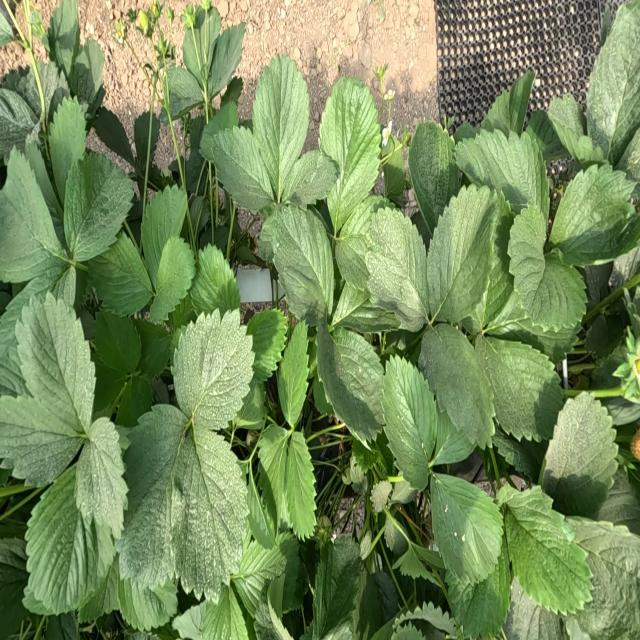Flowers: (381, 127, 390, 147), (383, 90, 394, 100)
Leaves: (173, 428, 249, 598), (25, 471, 114, 615), (117, 407, 186, 588), (503, 486, 591, 613), (17, 293, 95, 436), (428, 185, 504, 324), (509, 206, 587, 332), (0, 267, 76, 395), (173, 310, 254, 429), (419, 324, 494, 447), (259, 204, 334, 326), (544, 393, 618, 516), (321, 78, 380, 231), (430, 474, 502, 595), (552, 164, 638, 265), (477, 339, 562, 441), (568, 517, 639, 639), (1, 147, 64, 282), (586, 4, 639, 161), (456, 127, 549, 215), (253, 55, 309, 199), (316, 323, 383, 440), (64, 152, 134, 261), (366, 209, 429, 330), (0, 394, 82, 486), (383, 358, 437, 489), (258, 427, 315, 538), (76, 419, 127, 540), (201, 126, 272, 210), (451, 541, 511, 638), (230, 534, 298, 618), (409, 121, 459, 231), (88, 233, 151, 316), (313, 536, 365, 636), (91, 311, 139, 418), (141, 185, 186, 284), (150, 236, 195, 324), (49, 96, 86, 199), (548, 94, 602, 163), (503, 580, 566, 639), (336, 197, 375, 292), (190, 245, 239, 315), (481, 72, 534, 136), (117, 575, 175, 631), (182, 9, 221, 90), (278, 321, 307, 426), (281, 151, 337, 205), (430, 400, 475, 465), (246, 309, 286, 382), (207, 24, 244, 98), (596, 472, 639, 535), (1, 538, 27, 638), (200, 584, 247, 639), (1, 89, 36, 162), (69, 38, 103, 113), (390, 602, 456, 639), (93, 108, 134, 164), (134, 318, 172, 377), (247, 467, 274, 548), (166, 64, 203, 119), (393, 542, 438, 584), (381, 133, 406, 206), (186, 117, 205, 192), (383, 513, 408, 552), (45, 613, 78, 639), (134, 111, 149, 164), (190, 196, 209, 235), (370, 481, 392, 513), (221, 76, 243, 107), (346, 457, 366, 491), (391, 480, 417, 504), (213, 226, 229, 253), (360, 530, 373, 559), (401, 130, 411, 148), (200, 231, 210, 247)
Strawberries: (375, 64, 388, 90), (114, 18, 126, 43), (631, 429, 640, 460), (136, 10, 147, 35), (633, 347, 640, 382), (318, 515, 331, 530), (152, 1, 161, 19)
